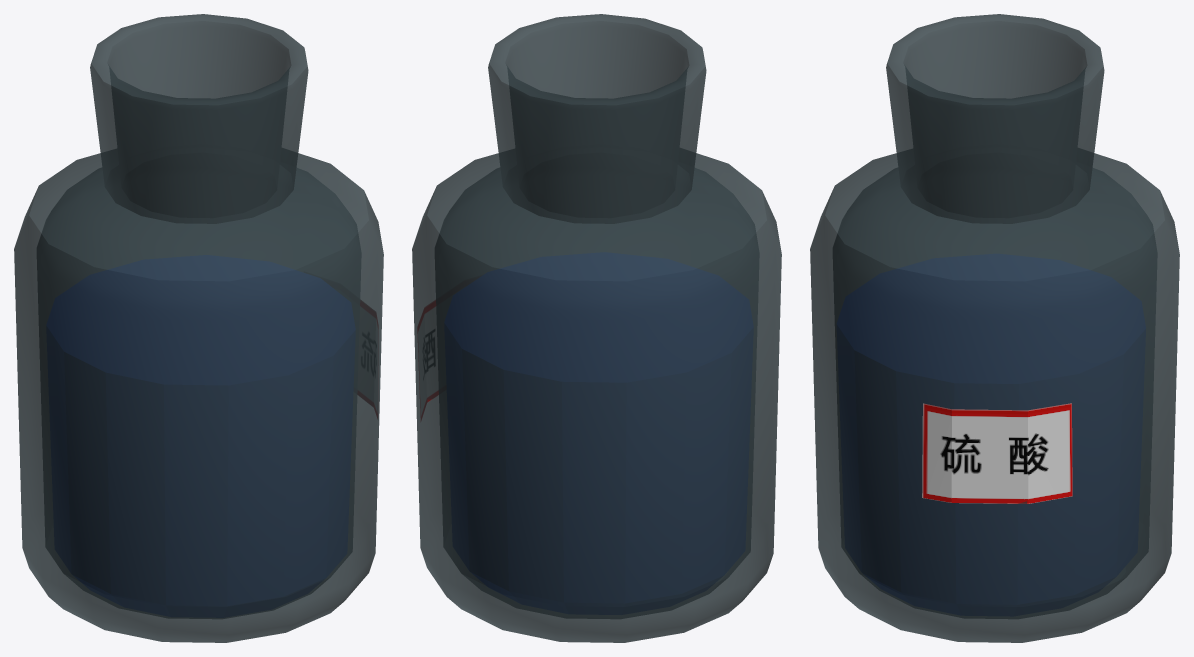
3 views of the same model, side by side, from view 1: azimuth 30°, elevation 25°; view 2: azimuth 150°, elevation 25°; view 3: azimuth 270°, elevation 25° (orthographic).
Parts seen in each view (by area): view 1: SM_硫酸_瓶体; view 2: SM_硫酸_瓶体; view 3: SM_硫酸_瓶体.
Part boxes in pixels (<box>): SM_硫酸_瓶体: <box>14,14,383,642</box>; SM_硫酸_瓶体: <box>412,14,781,642</box>; SM_硫酸_瓶体: <box>810,14,1179,642</box>.
Bounding box in the file's own units: 0.0463 × 0.0729 × 0.0463.
